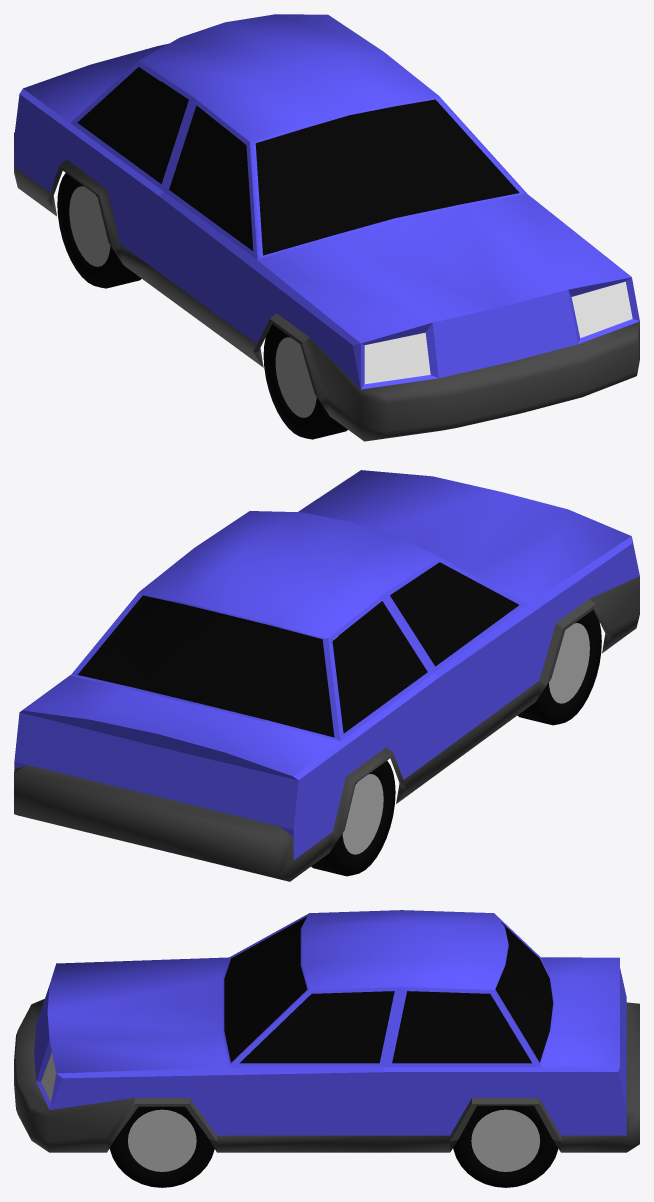
The model's file is blue_car.glb.
The picture shows the model from 3 angles, top to bottom: view 1: azimuth 30°, elevation 25°; view 2: azimuth 150°, elevation 25°; view 3: azimuth 270°, elevation 25°; orthographic projection. The views are drawn at different scales.
Parts seen in each view (by area): view 1: Car_Cube; view 2: Car_Cube; view 3: Car_Cube.
Boxes of the visible parts, x1,y1,x2,y2 form: Car_Cube: (14,14,639,441); Car_Cube: (14,470,639,881); Car_Cube: (14,910,639,1187).
Bounding box in the file's own units: 2.1 × 1.59 × 4.66.
